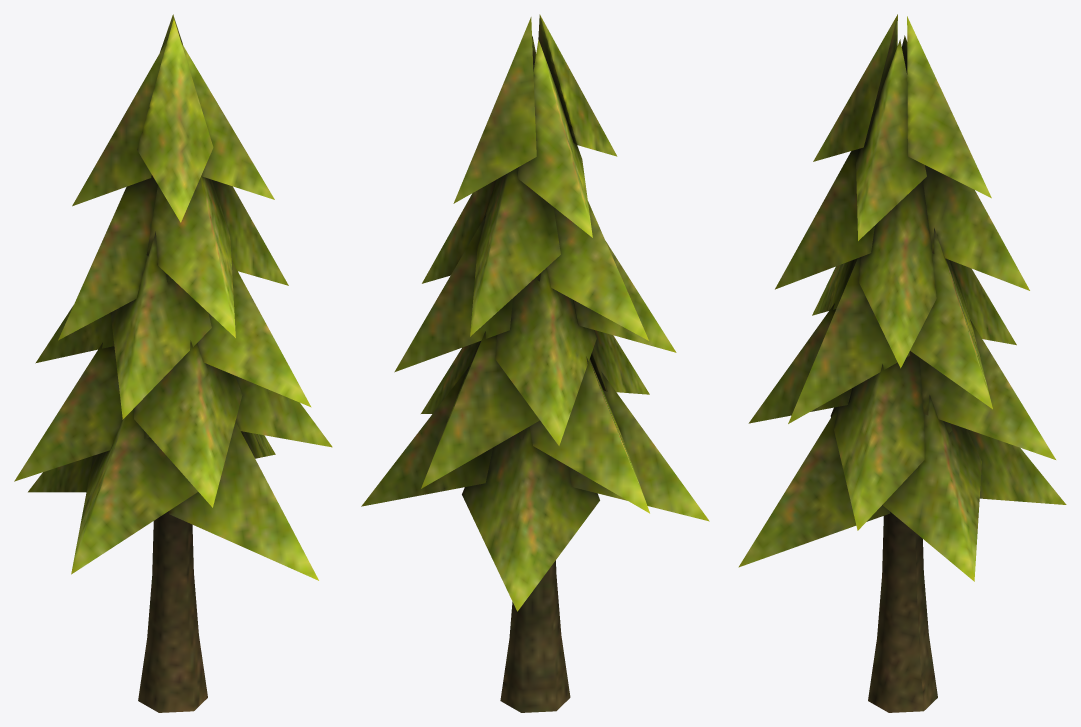
The model's file is Tree01.FBX.
The picture shows the model from 3 angles, left to right: view 1: azimuth 30°, elevation 25°; view 2: azimuth 150°, elevation 25°; view 3: azimuth 270°, elevation 25°; orthographic projection.
Visible parts, largest first — view 1: Tree01; view 2: Tree01; view 3: Tree01.
Part boxes in pixels (x1,y1,x2,y2): Tree01: (14,14,332,712); Tree01: (361,14,709,712); Tree01: (738,14,1066,712).
Size of the model in its own units: 562 by 1326 by 577.
